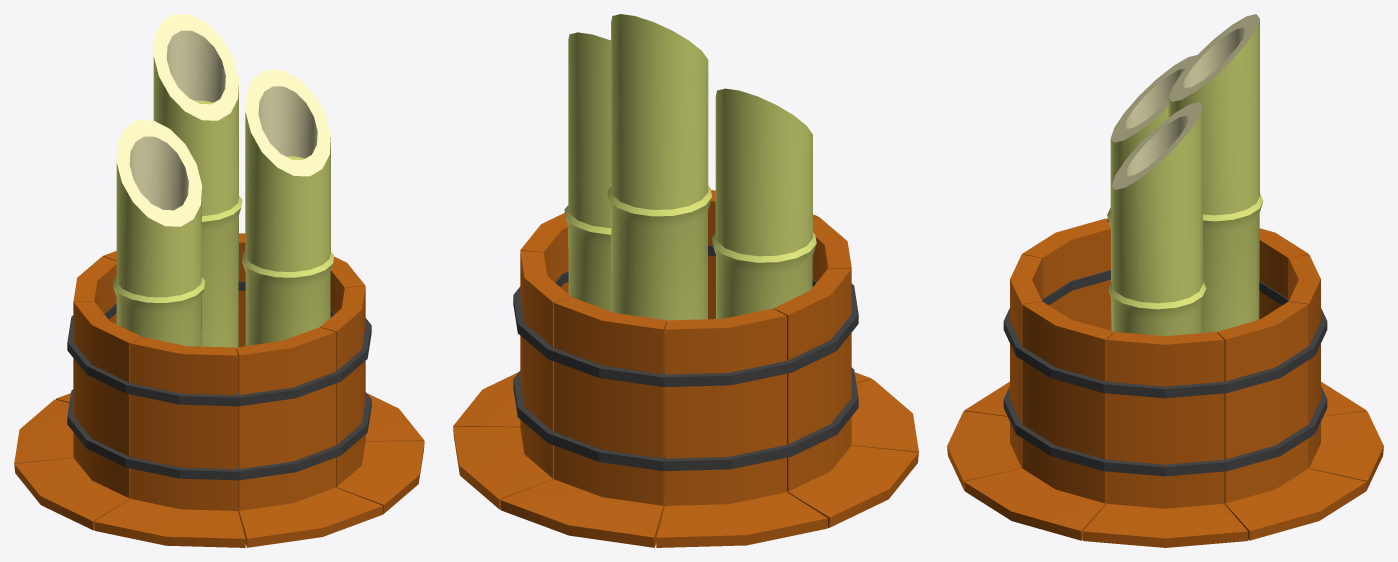
Rendered from pine_decoration.glb.
3 renders of one model, left to right at view 1: azimuth 30°, elevation 25°; view 2: azimuth 150°, elevation 25°; view 3: azimuth 270°, elevation 25°, orthographic. The views are drawn at different scales.
Visible parts, largest first — view 1: Circle.2148; view 2: Circle.2148; view 3: Circle.2148.
Boxes of the visible parts, x1,y1,x2,y2 form: Circle.2148: (14,14,424,547); Circle.2148: (453,14,918,547); Circle.2148: (947,14,1383,547).
Size of the model in its own units: 2.04 by 2.27 by 2.04.
1 material, 1 textured.
